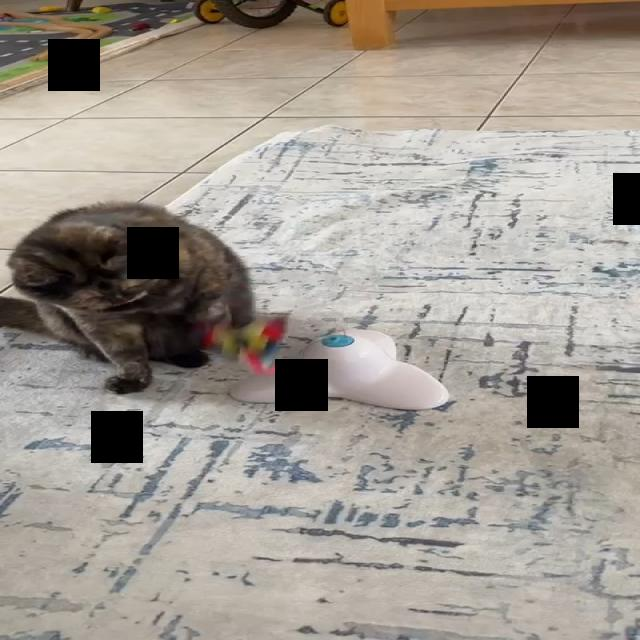authorized: (1, 199, 256, 394)
